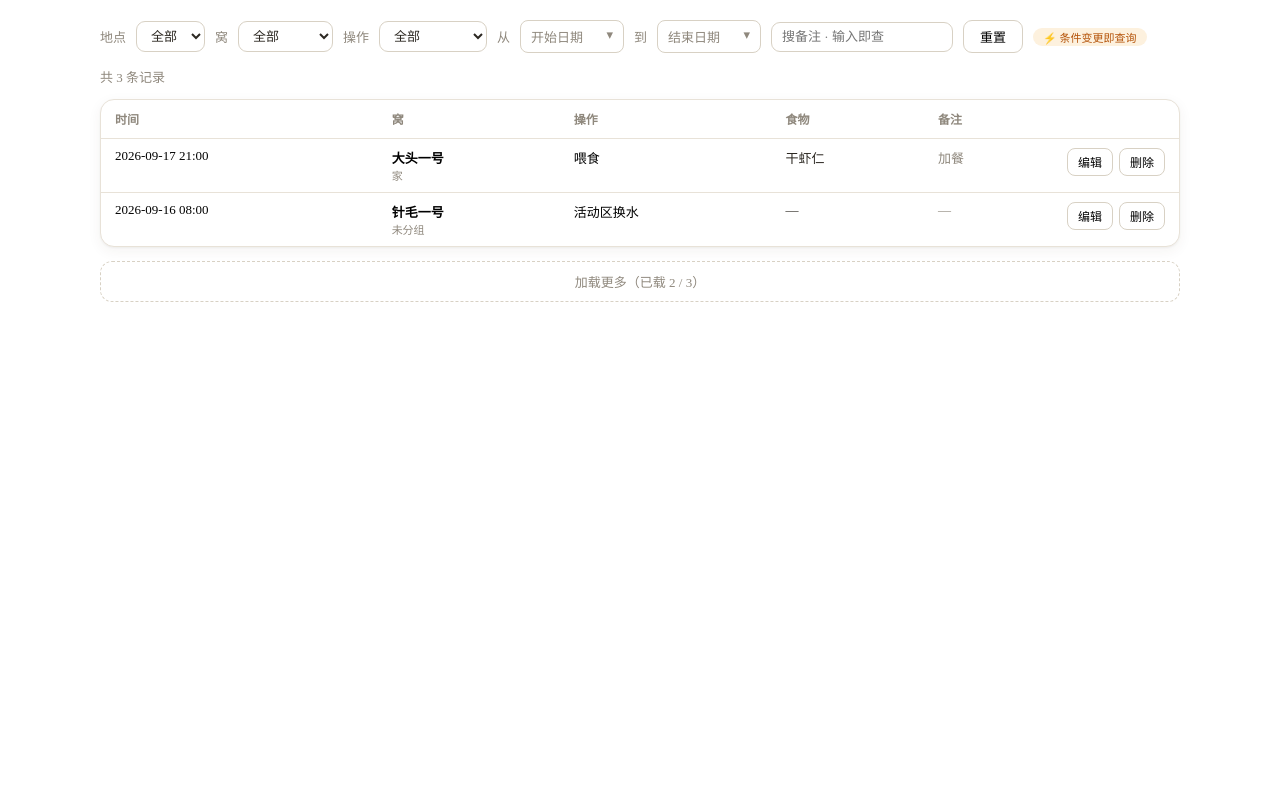
Scenario: 记录列表页（票 08） › 编辑弹窗预填当前值；停用项标「已停用」：原引用可选、无关停用禁选（规则 10）
Click the button "编辑" in the row of "2026-09-17 21:00".
click(1090, 162)  # box left=1067, top=148, right=1113, bottom=176
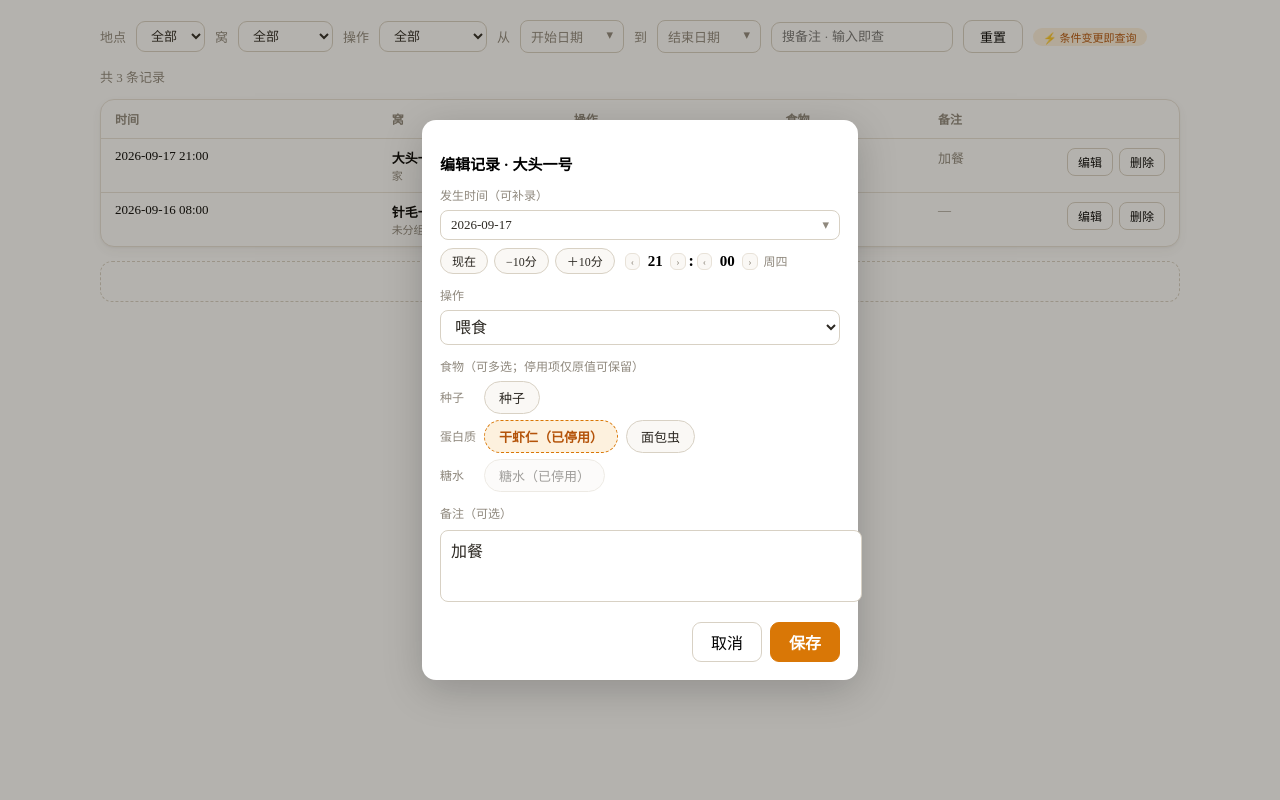
Check: the dropdown with class "action-select" shows "喂食", box left=440, top=310, right=840, bottom=345
Check: the text box with class "note-input" holds "加餐", box left=440, top=530, right=862, bottom=602
Check: the button with class "food" shows "已停用", box left=484, top=420, right=618, bottom=453
